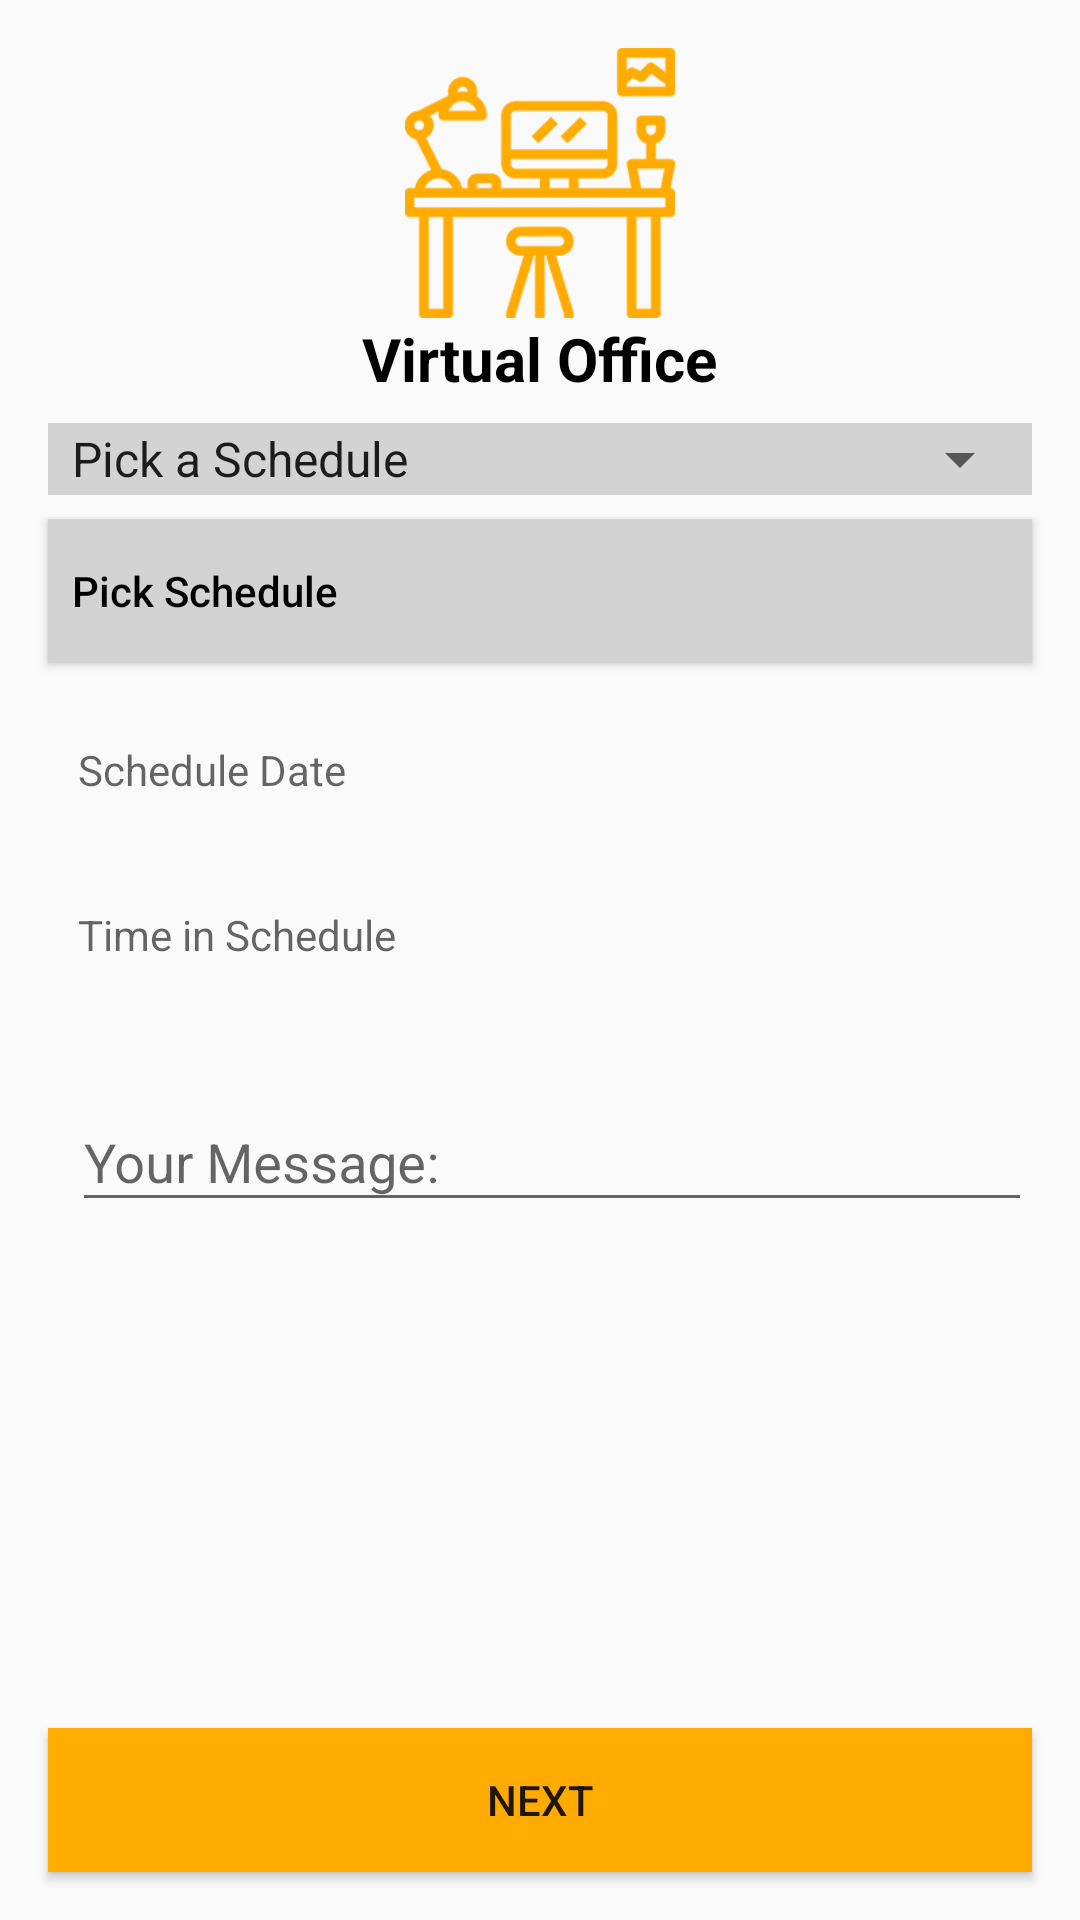

Icons on this 1080×1920 Android screen, each with the point to tap as point (x, y):
fixeddesk: point (540, 183)
